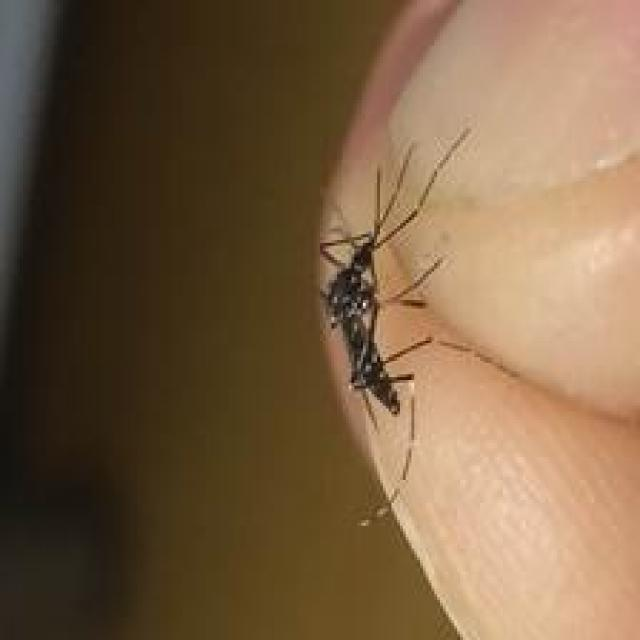Aedes albopictus: (317, 123, 474, 526)
